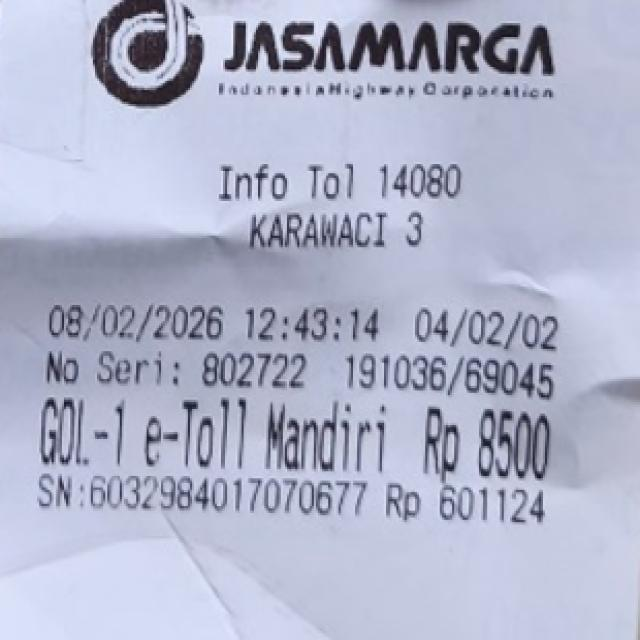date: (47, 296, 408, 346), (419, 408, 549, 478)
store: (209, 12, 592, 108)
